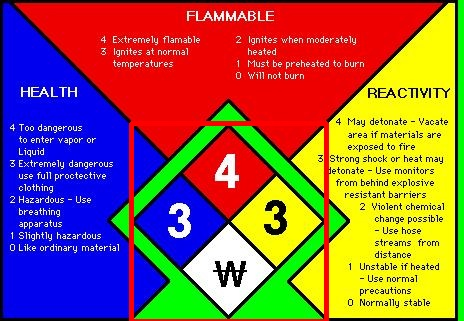nfpa: (131, 123, 326, 321)
